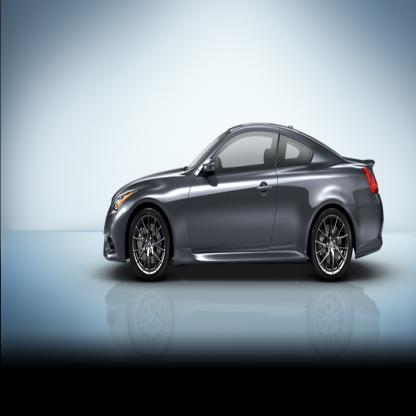car: (102, 121, 387, 283)
